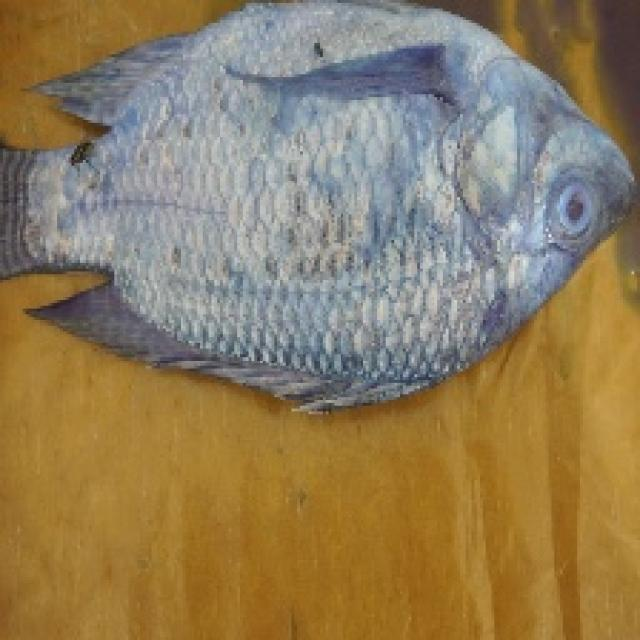Non-Fresh: (196, 6, 639, 390), (537, 168, 613, 248)
